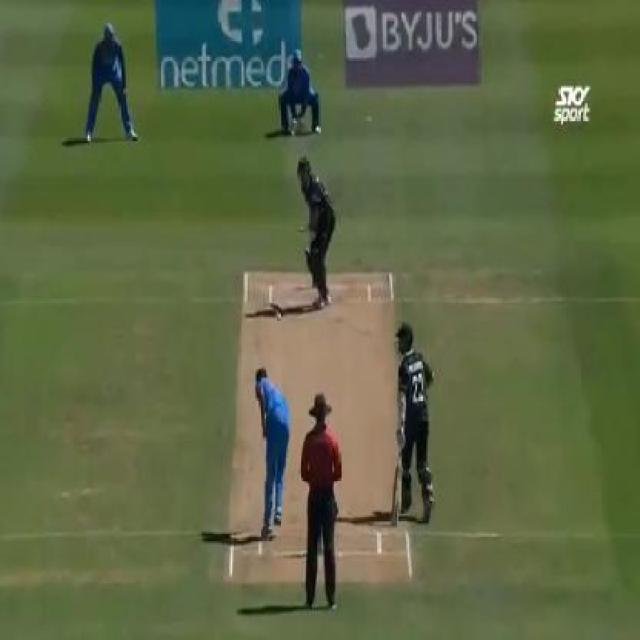Cricket ball: (276, 312, 281, 320)
